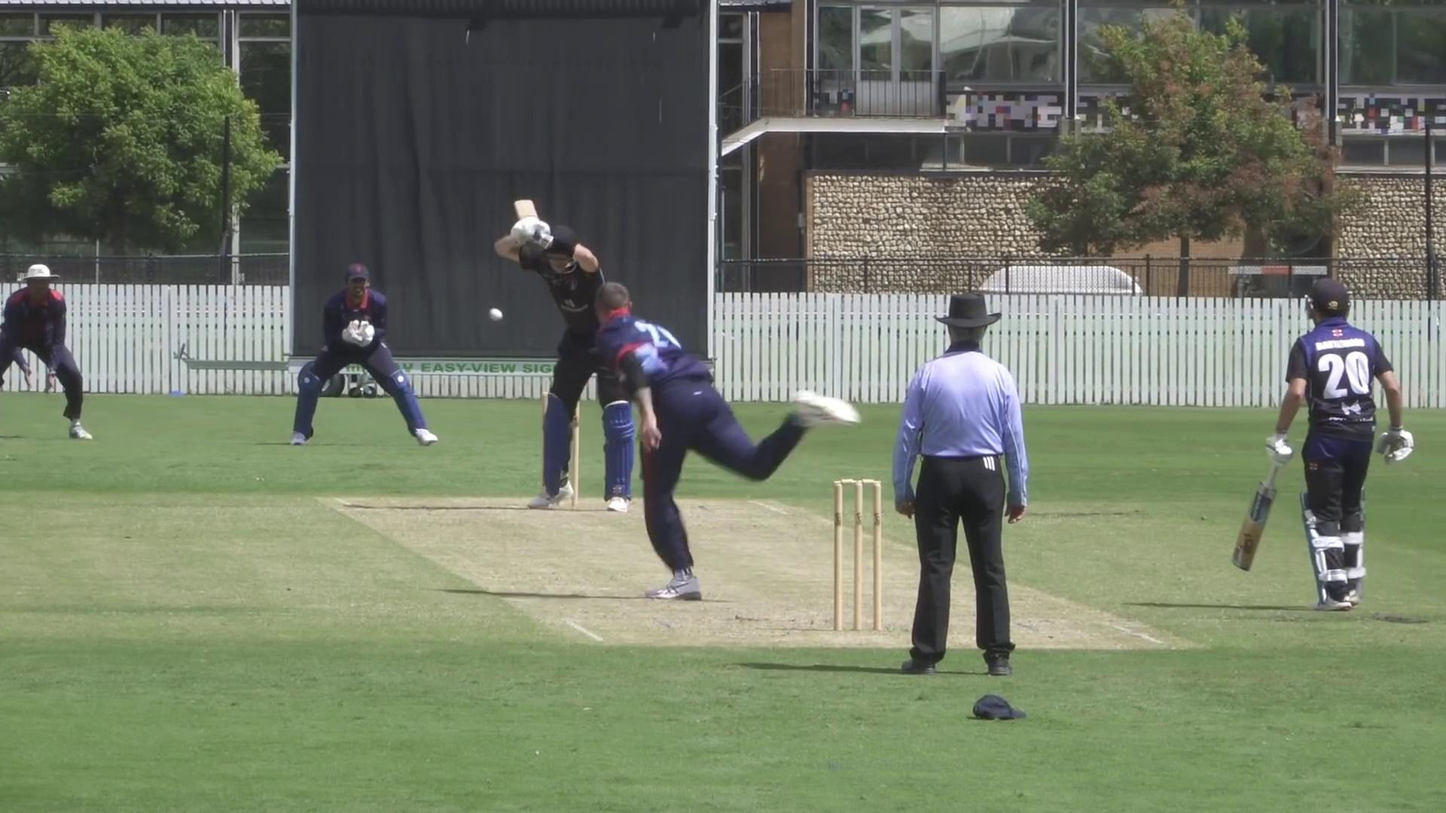ball: (486, 305, 507, 325)
